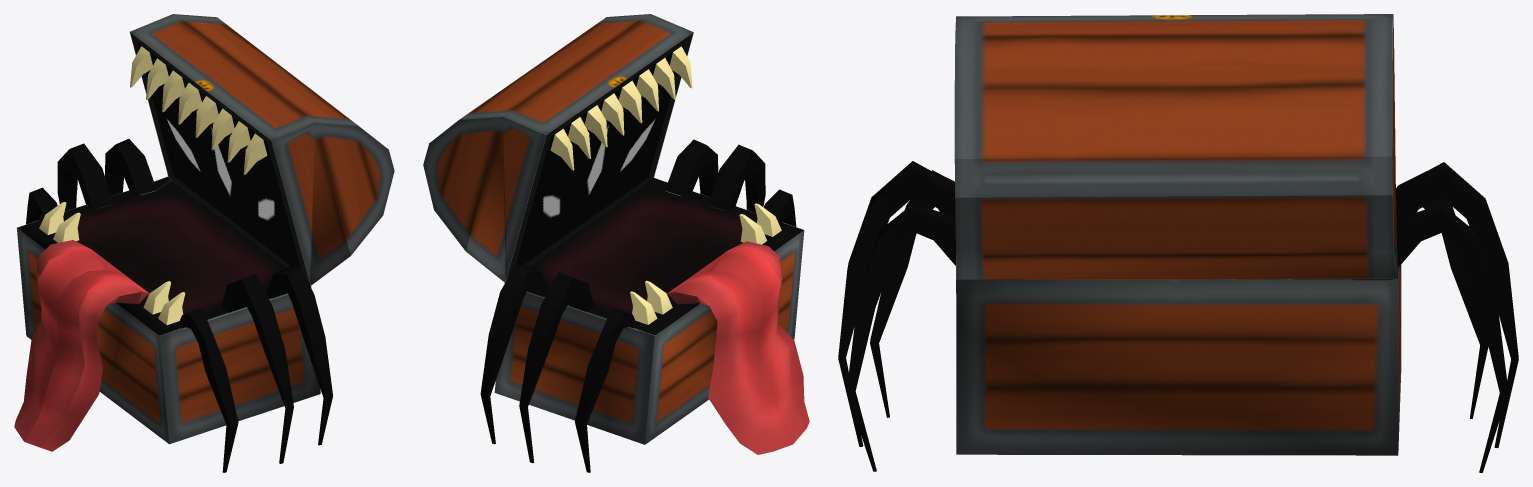
Rendered from cofrearana_000046.obj.
3 views of the same model, side by side, from view 1: azimuth 30°, elevation 25°; view 2: azimuth 150°, elevation 25°; view 3: azimuth 270°, elevation 25° (orthographic). The views are drawn at different scales.
Visible parts, largest first — view 1: cofreArana:Mesh; view 2: cofreArana:Mesh; view 3: cofreArana:Mesh.
Boxes of the visible parts, box(x1,y1,x2,y2) form: cofreArana:Mesh: box(14, 14, 394, 472); cofreArana:Mesh: box(423, 14, 809, 472); cofreArana:Mesh: box(838, 14, 1518, 472).
Size of the model in its own units: 7.48 by 7.87 by 9.76.
